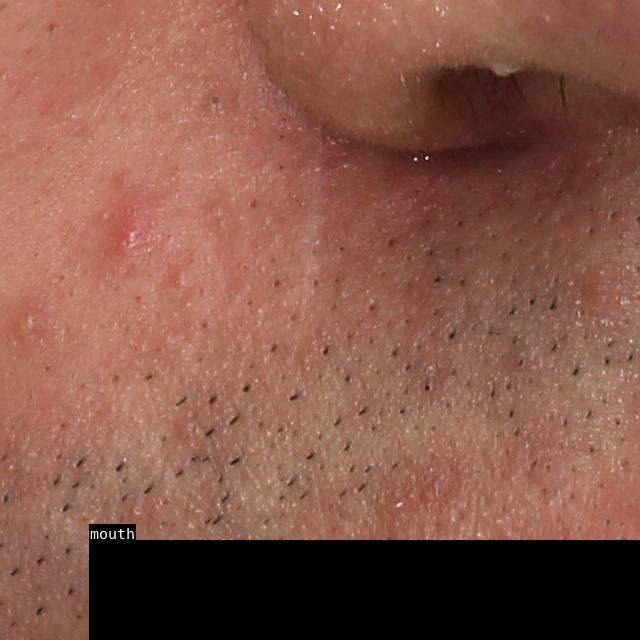comedo: (207, 90, 224, 110)
pustule: (9, 304, 44, 343)
